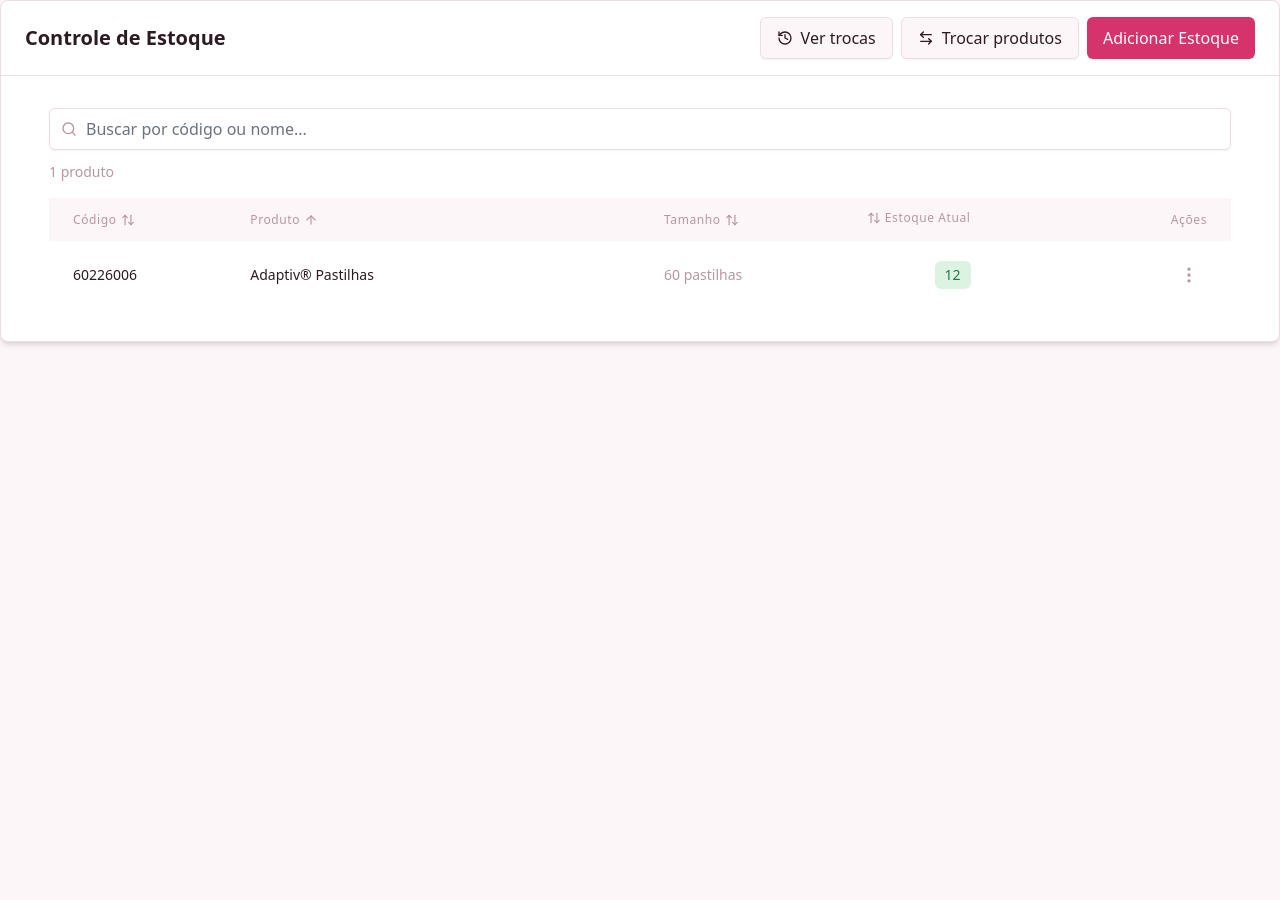
Scenario: StockPage › MovementDialog › should open with type "Entrada" pre-selected when clicking "Nova Entrada"
The width and height of the screenshot is (1280, 900).
Click the button with test id "stock-actions-11111111-1111-1111-1111-111111111111-trigger": (1189, 275) [1171, 257, 1207, 293]
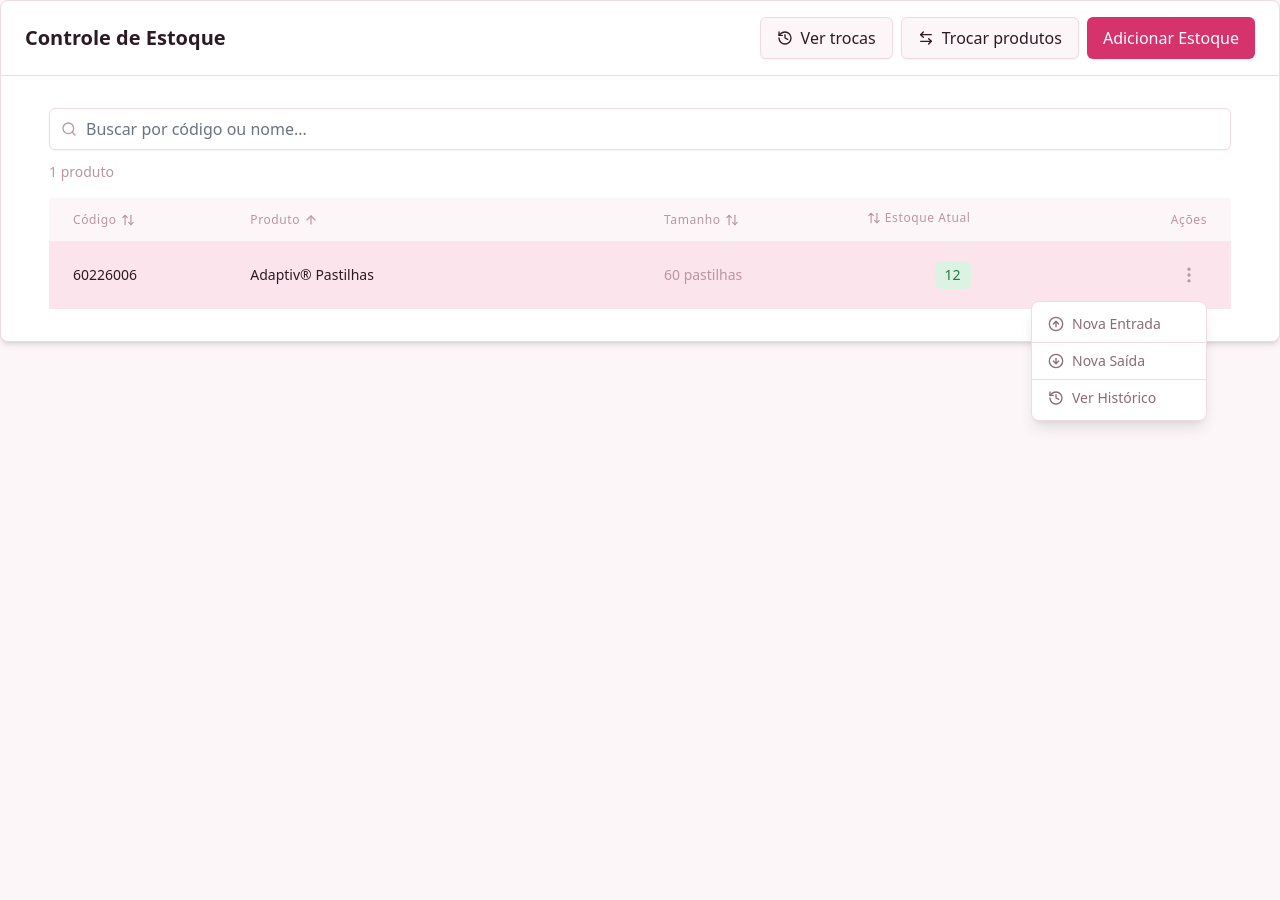
Now the menu with test id "stock-actions-11111111-1111-1111-1111-111111111111-menu" is shown, box [1031, 301, 1207, 421]
Click the menu item with test id "stock-actions-11111111-1111-1111-1111-111111111111-item-Nova-Entrada": (1119, 324) [1032, 306, 1206, 342]
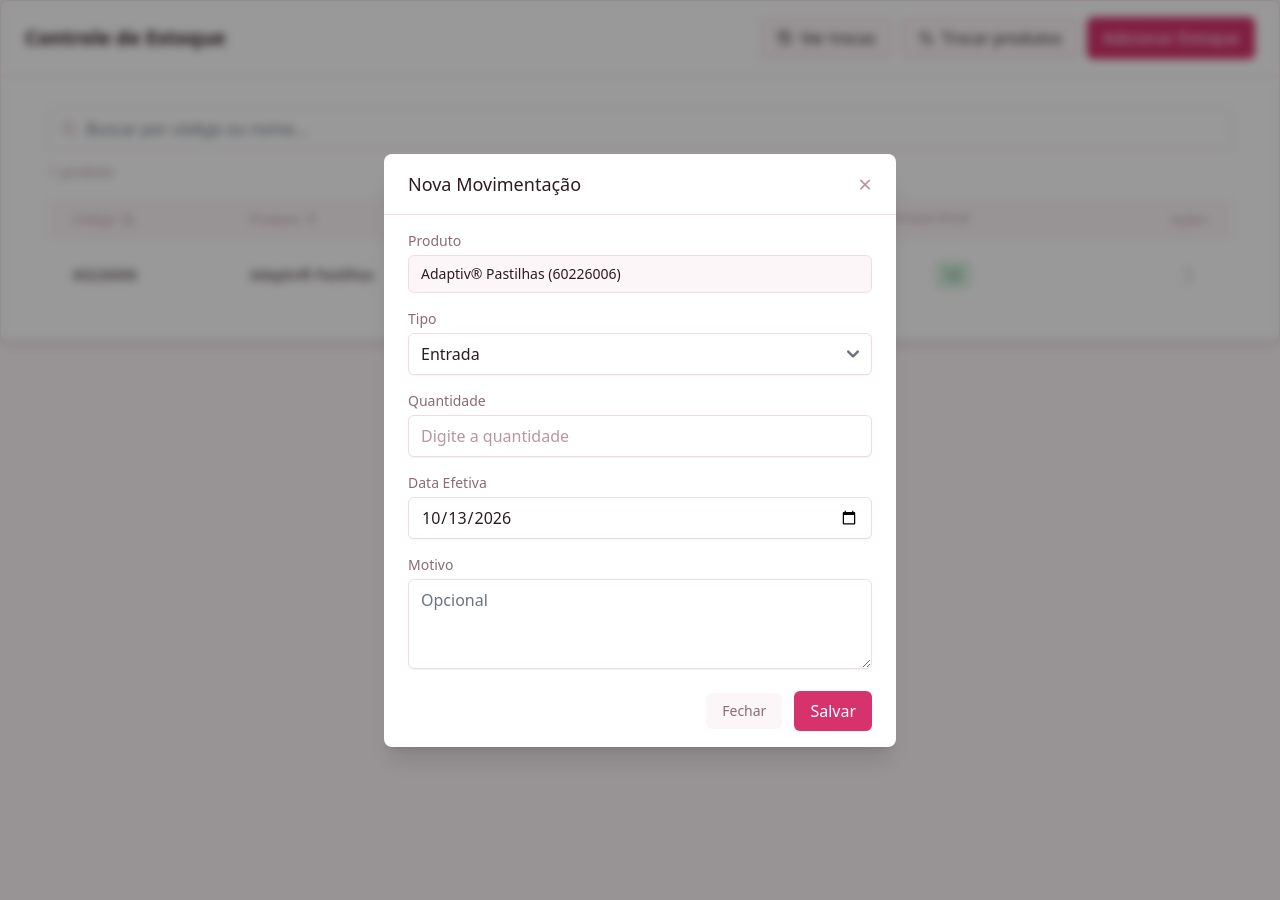
Now the dropdown named "Tipo" shows "Entrada", box [408, 332, 872, 374]
Now the heading "Nova Movimentação" is shown, box [408, 170, 581, 198]
